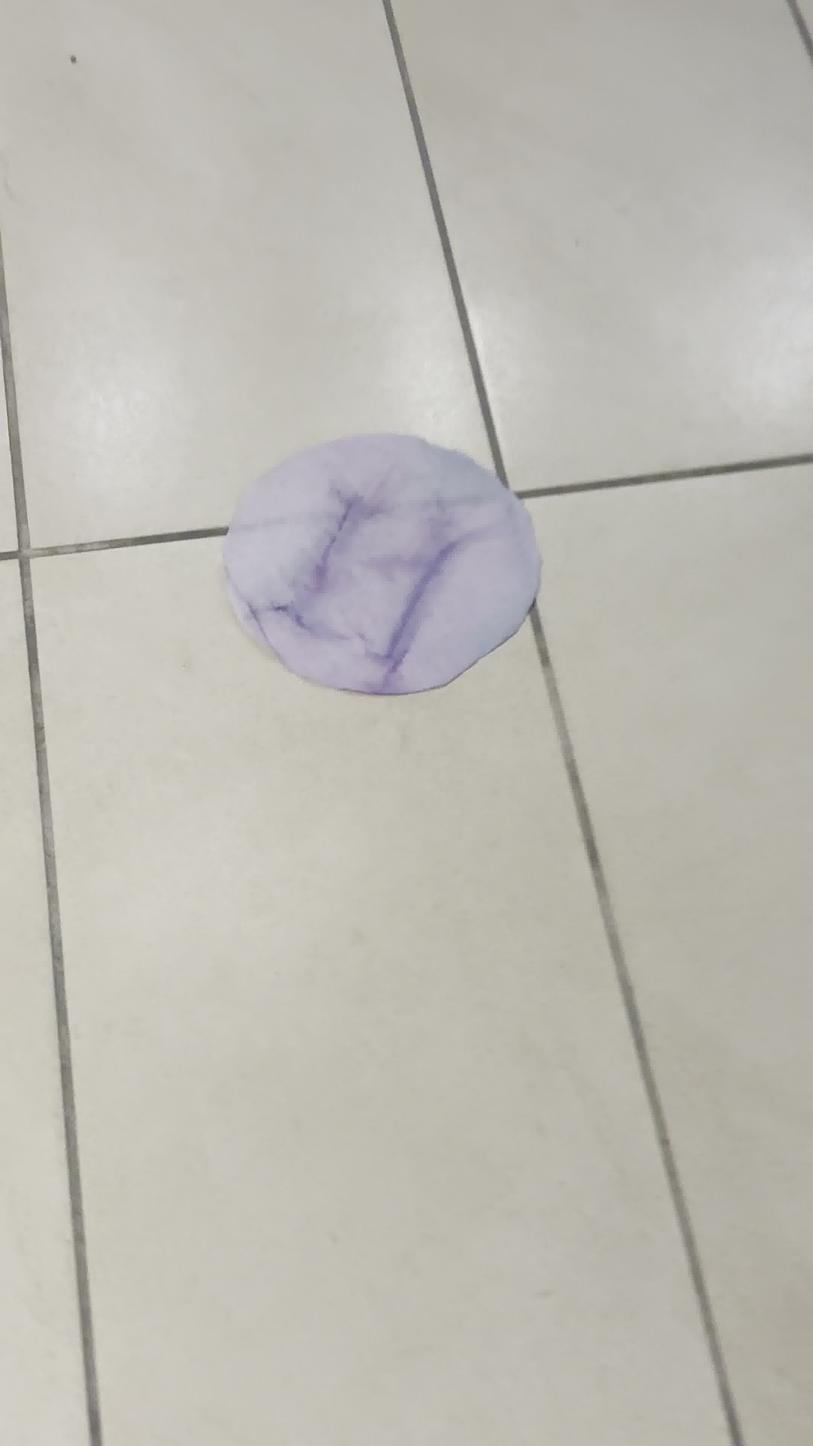Target: (228, 430, 543, 696)
